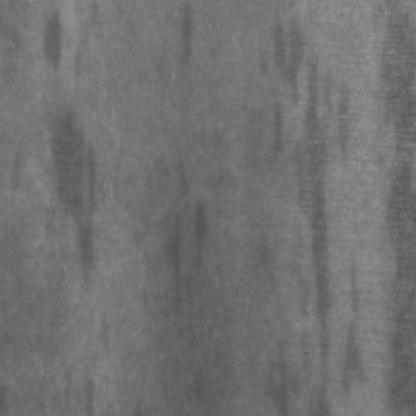inclusion: (300, 43, 358, 376), (370, 0, 416, 406), (50, 102, 110, 308), (160, 147, 218, 331), (256, 4, 310, 162), (333, 248, 381, 404), (164, 0, 206, 75), (36, 0, 75, 77)
